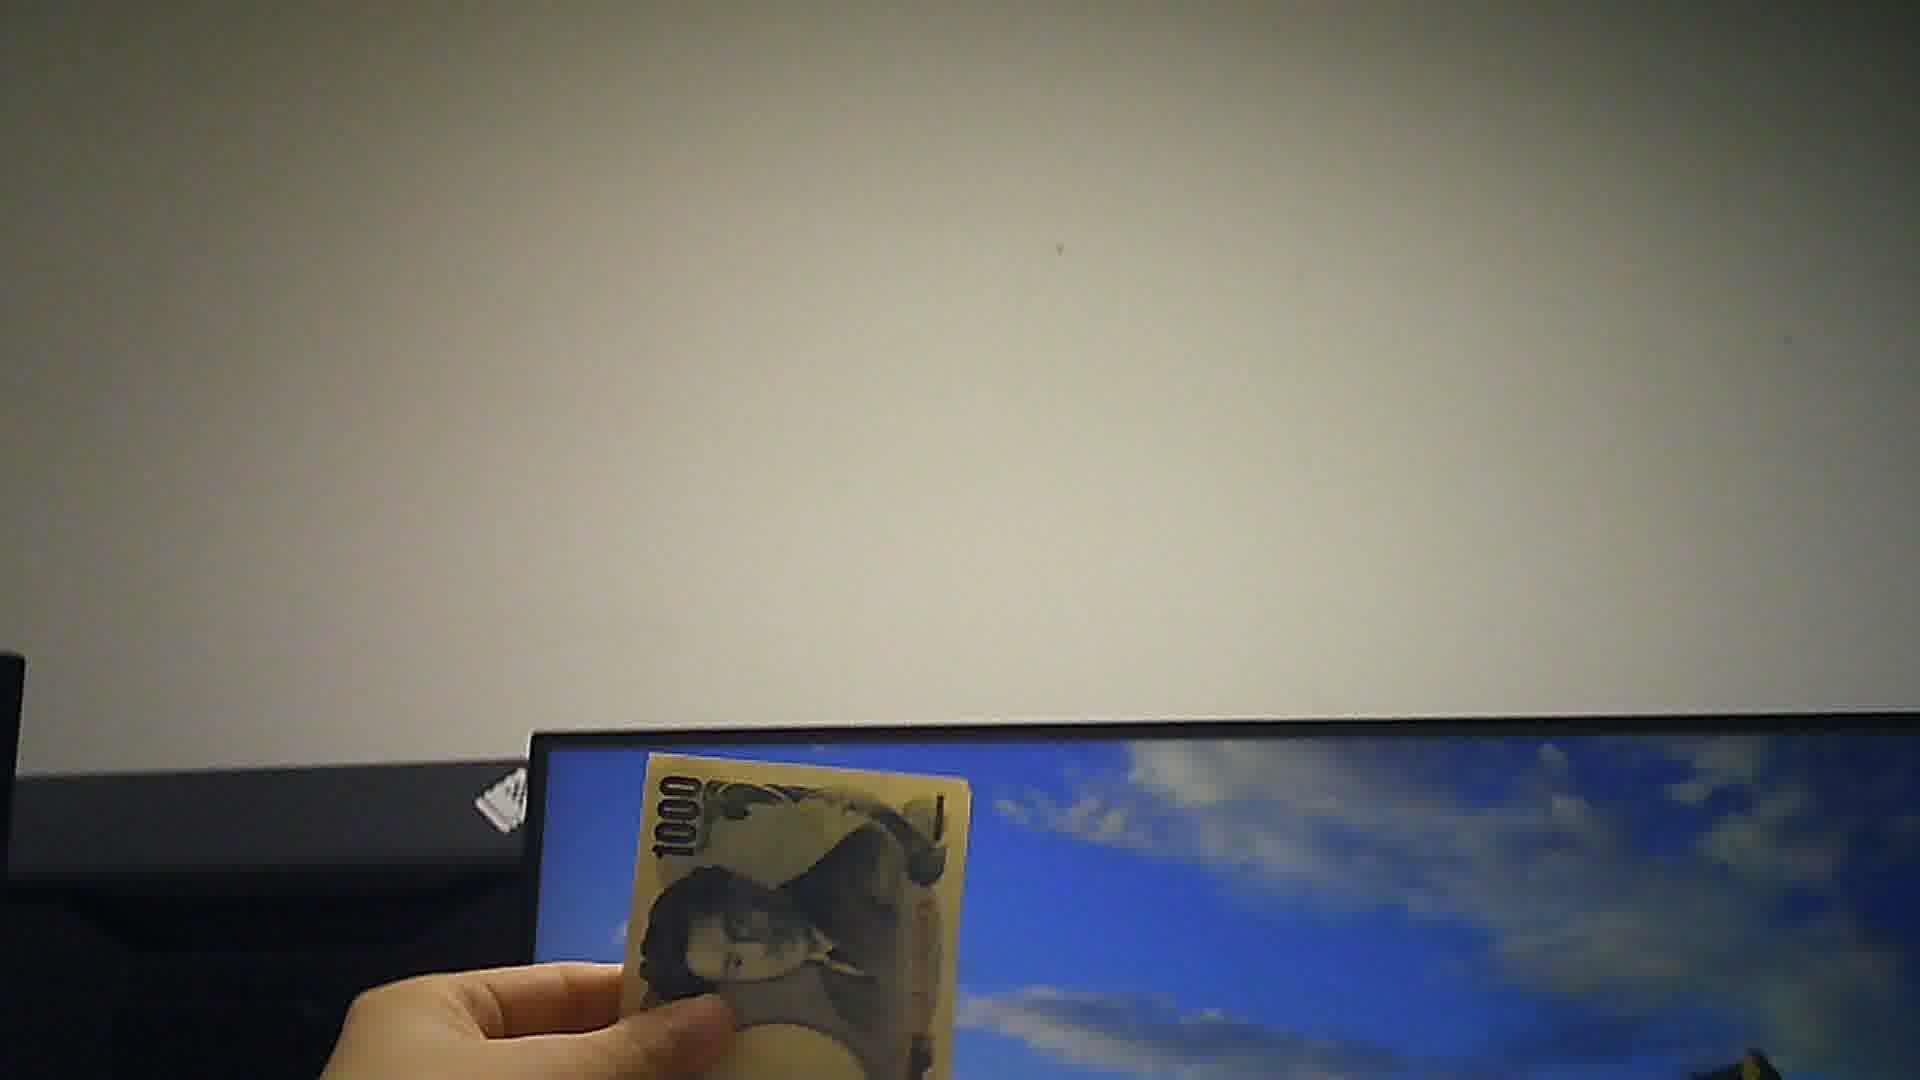1,000 Yen: (617, 738, 971, 1079)
